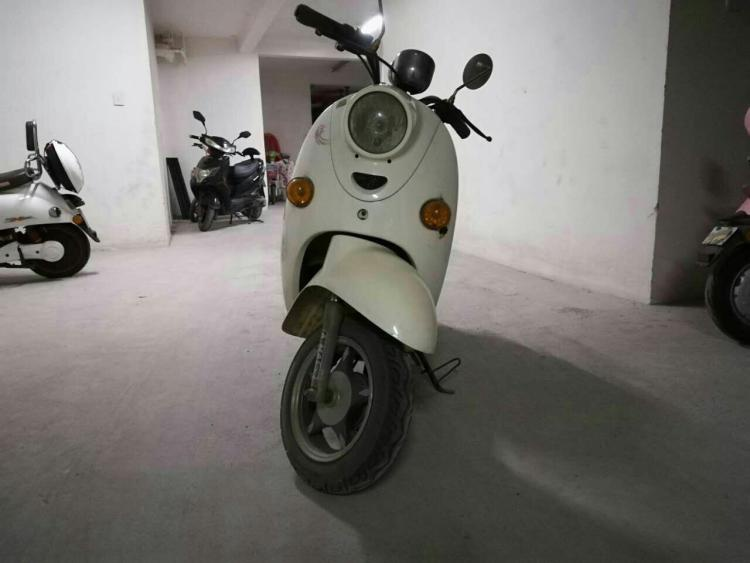non-vehicle: (273, 45, 480, 503), (0, 121, 93, 281), (188, 131, 269, 231)
